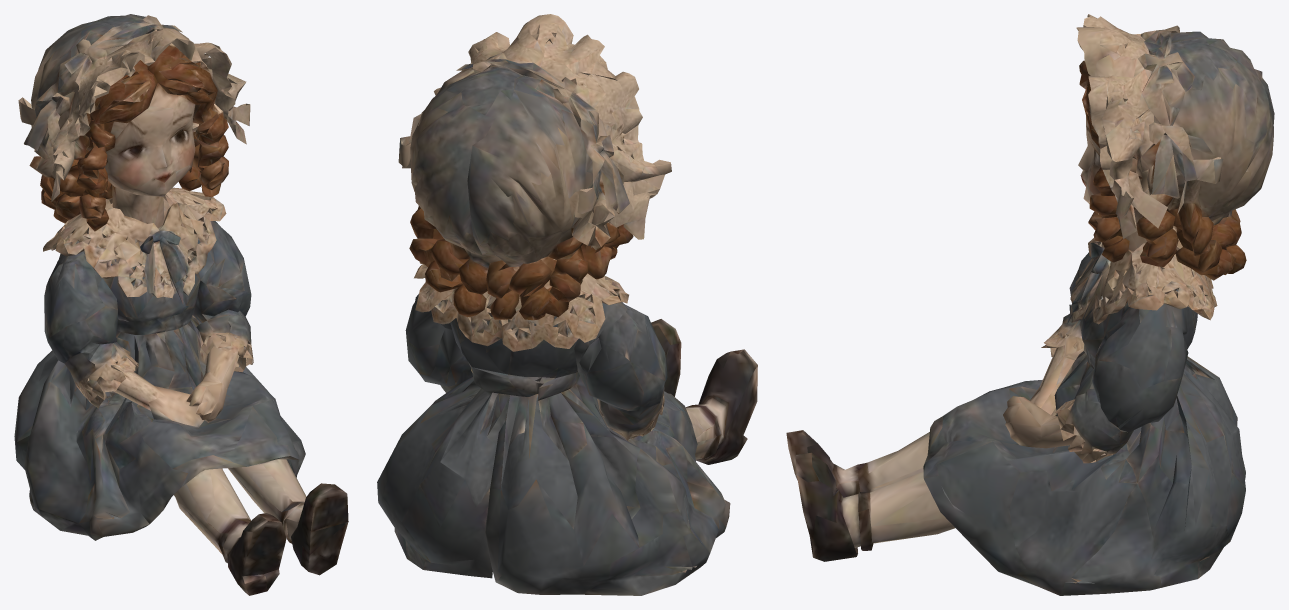
The model's file is up_doll_curls.glb.
3 renders of one model, left to right at view 1: azimuth 30°, elevation 25°; view 2: azimuth 150°, elevation 25°; view 3: azimuth 270°, elevation 25°, orthographic. The views are drawn at different scales.
Visible parts, largest first — view 1: up_doll_curls; view 2: up_doll_curls; view 3: up_doll_curls.
Part boxes in pixels (box(x1,y1,x2,y2)): up_doll_curls: box(14, 14, 348, 595); up_doll_curls: box(377, 14, 757, 595); up_doll_curls: box(786, 14, 1274, 595).
Size of the model in its own units: 0.3157 by 0.55 by 0.4692.
1 material, 1 textured.
